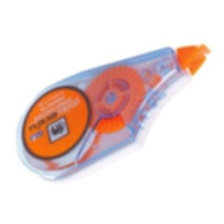correction_fluid: (13, 40, 213, 187)
